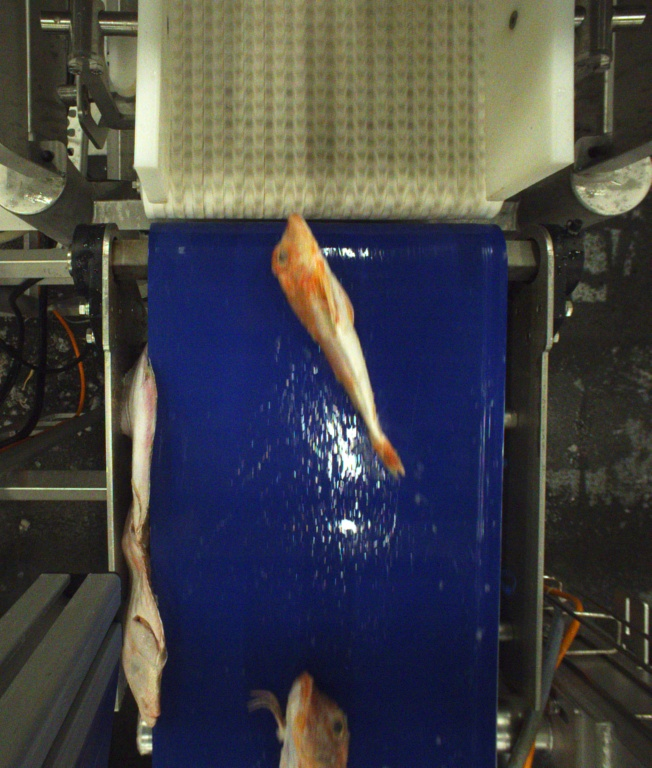GUU: (273, 212, 407, 476)
